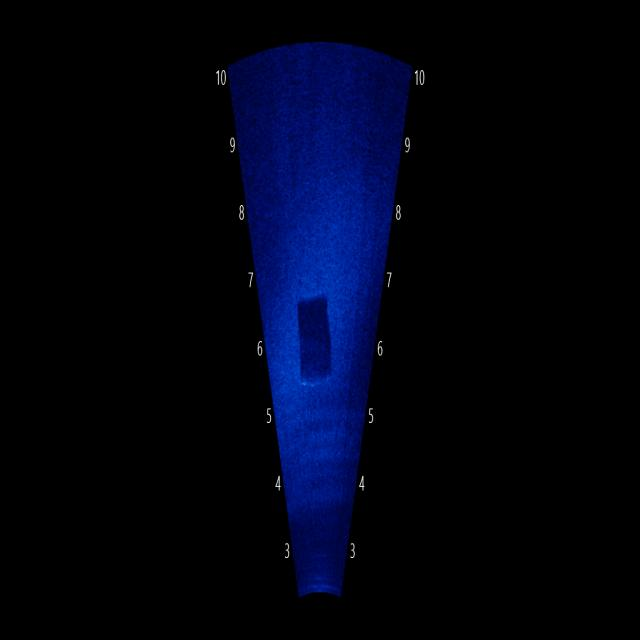square: (290, 283, 344, 407)
